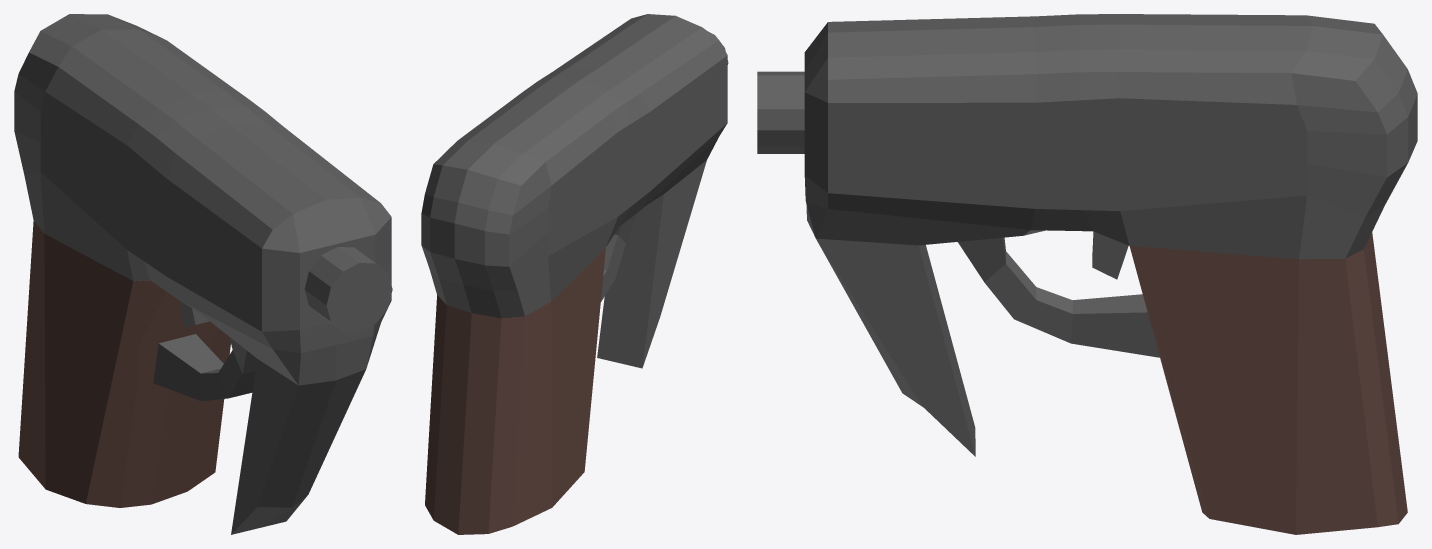
The model's file is Gun_Prototype.fbx.
3 views of the same model, side by side, from view 1: azimuth 30°, elevation 25°; view 2: azimuth 150°, elevation 25°; view 3: azimuth 270°, elevation 25° (orthographic). The views are drawn at different scales.
Parts seen in each view (by area): view 1: pCube7; view 2: pCube7; view 3: pCube7.
Boxes of the visible parts, box(x1,y1,x2,y2) form: pCube7: box(14, 14, 392, 534); pCube7: box(421, 14, 728, 534); pCube7: box(757, 14, 1417, 534).
Size of the model in its own units: 3.49 by 11.73 by 14.24.
